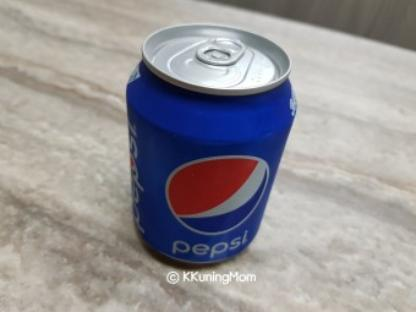Can: (124, 23, 300, 267)
